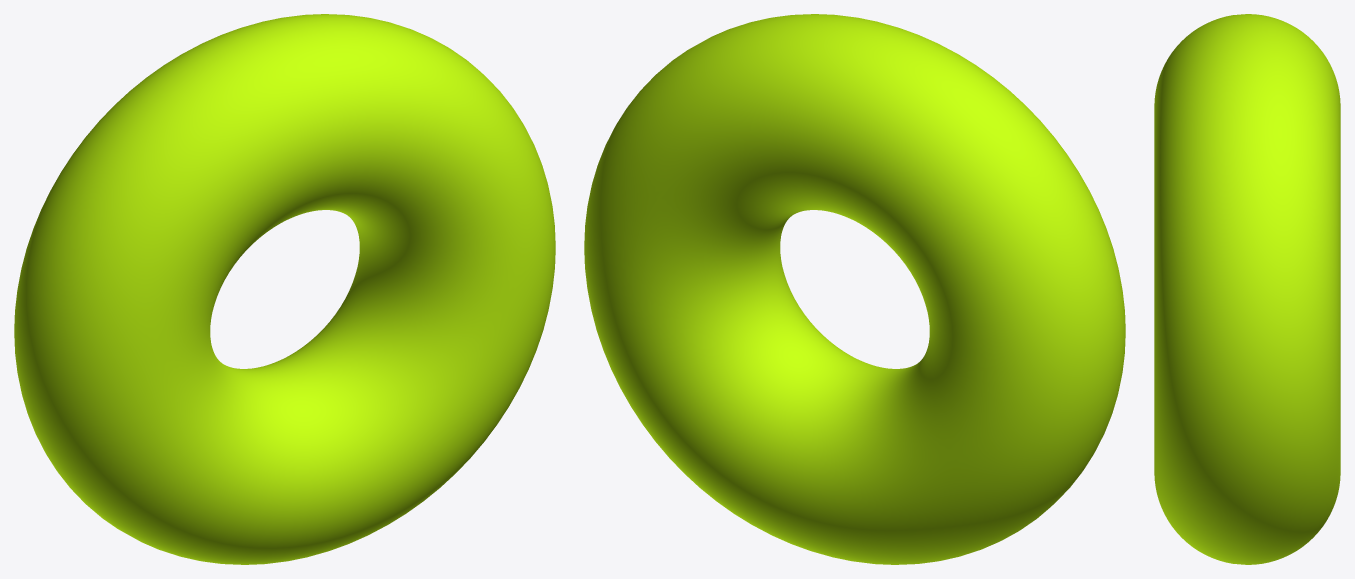
The model's file is unknot.glb.
3 views of the same model, side by side, from view 1: azimuth 30°, elevation 25°; view 2: azimuth 150°, elevation 25°; view 3: azimuth 270°, elevation 25° (orthographic). The views are drawn at different scales.
Parts seen in each view (by area): view 1: mesh_id29; view 2: mesh_id29; view 3: mesh_id29.
Boxes of the visible parts, x1,y1,x2,y2 form: mesh_id29: [14, 14, 555, 564]; mesh_id29: [584, 14, 1125, 564]; mesh_id29: [1154, 14, 1340, 564].
Size of the model in its own units: 0.0959 by 0.0929 by 0.0316.
1 material, 1 textured.
